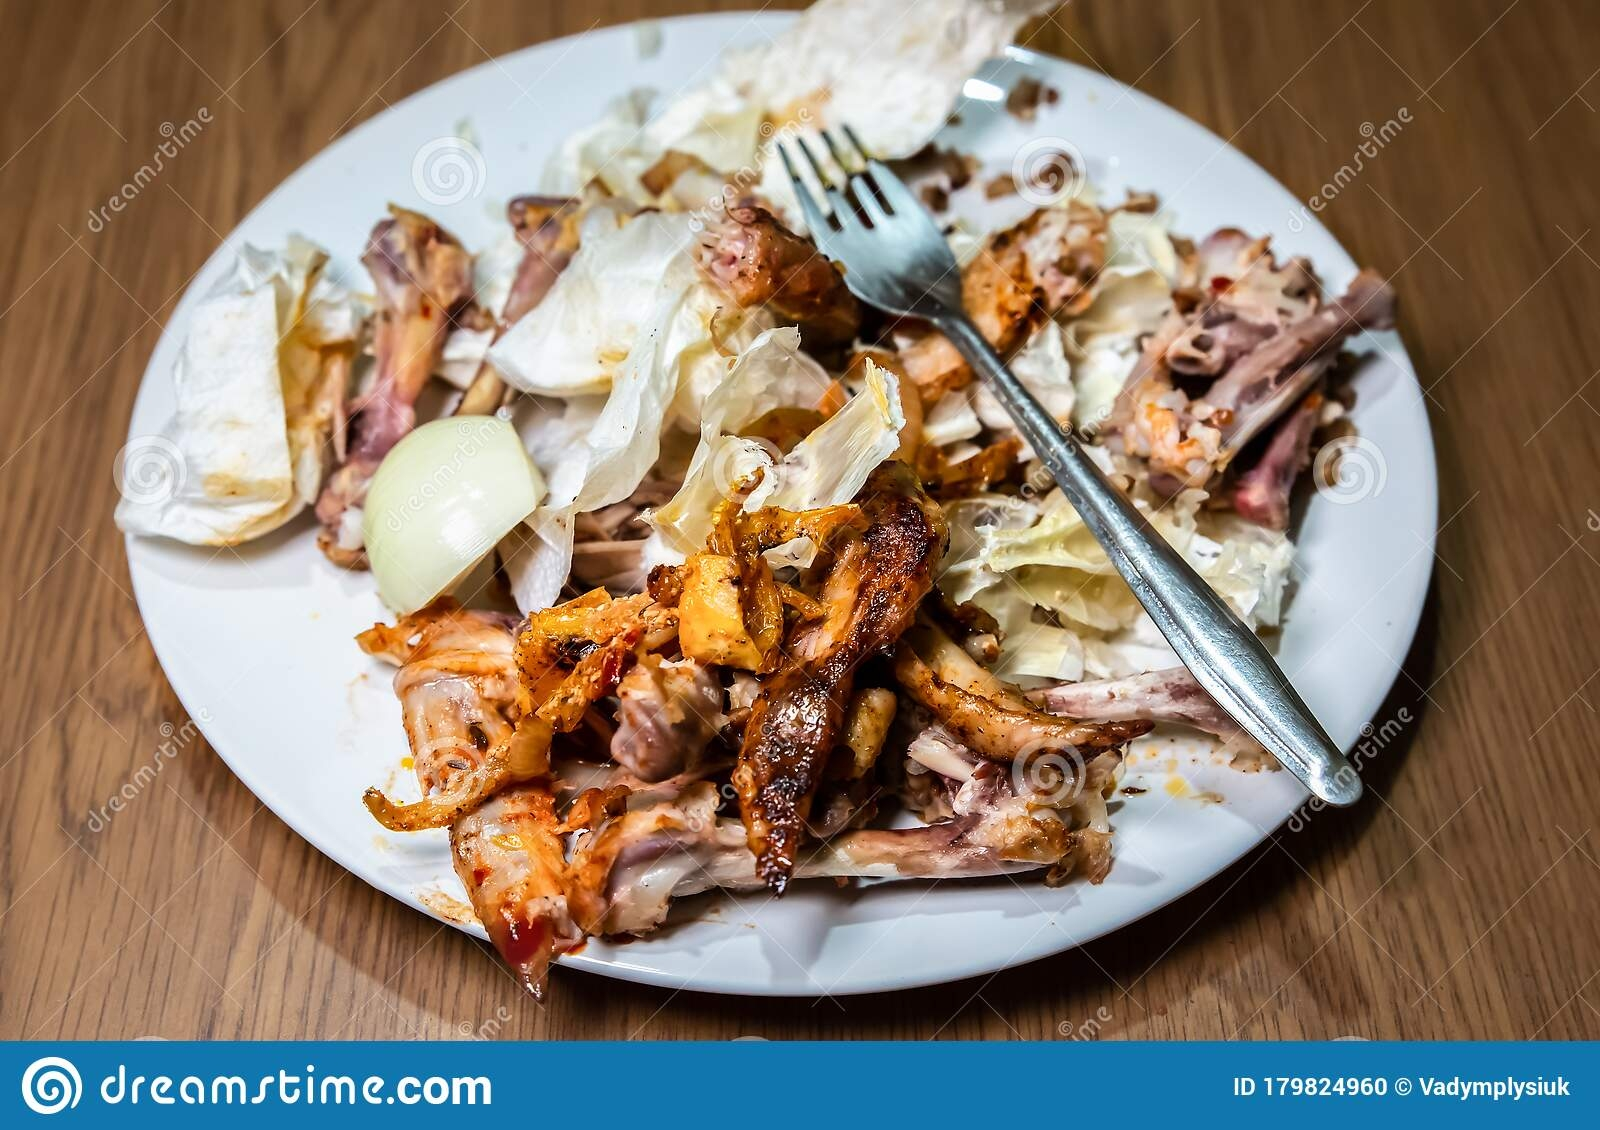kitchen_waste: (335, 597, 618, 1014), (556, 739, 1105, 942), (720, 490, 969, 910), (1090, 210, 1401, 527), (308, 188, 486, 571), (343, 401, 572, 625), (651, 468, 814, 670)
metal: (760, 110, 1369, 812)
paper: (103, 229, 357, 550), (479, 179, 713, 512)
